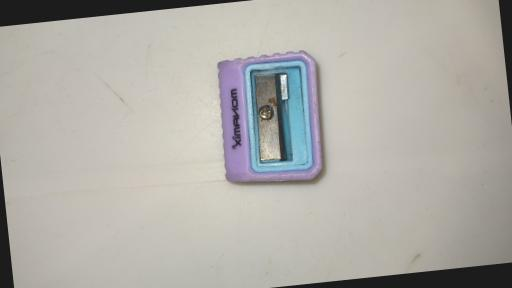Sharpener: (212, 47, 334, 190)
